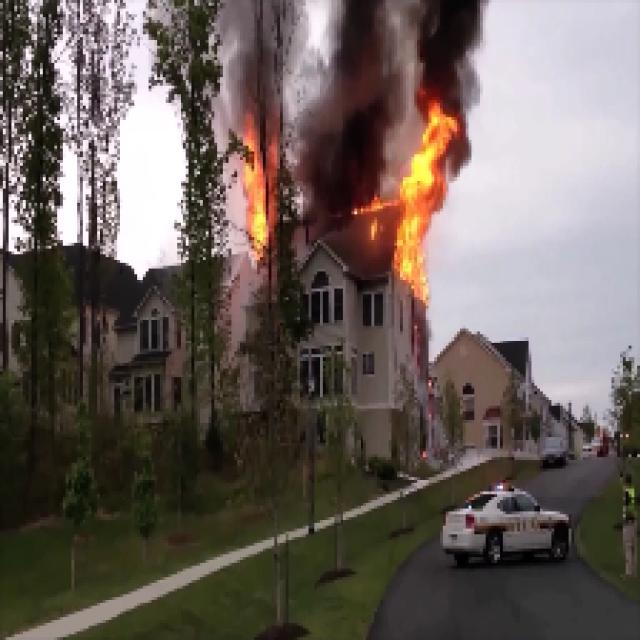fire: (399, 124, 446, 286)
smoke: (306, 0, 391, 200), (408, 0, 472, 109)
